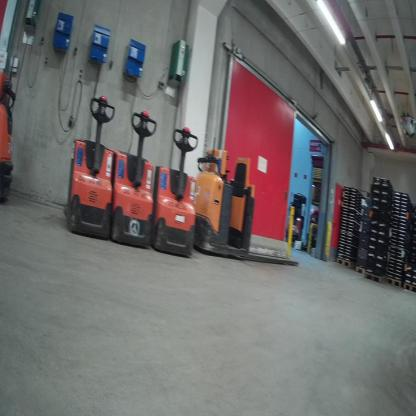pallet: (363, 269, 385, 286), (385, 273, 404, 292), (334, 256, 354, 270), (403, 279, 415, 294), (353, 264, 368, 274)
pallet_truck: (197, 135, 302, 271), (62, 86, 119, 241), (149, 113, 209, 256), (111, 96, 160, 247), (0, 61, 22, 207)
